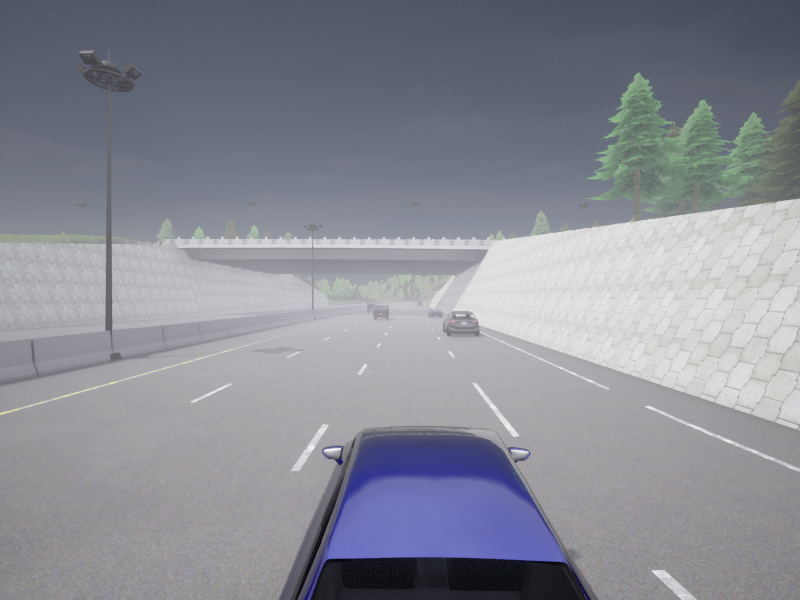vehicle: (279, 426, 597, 599), (443, 311, 479, 335), (373, 304, 389, 319), (428, 308, 442, 317), (367, 302, 378, 312), (417, 302, 422, 307)
